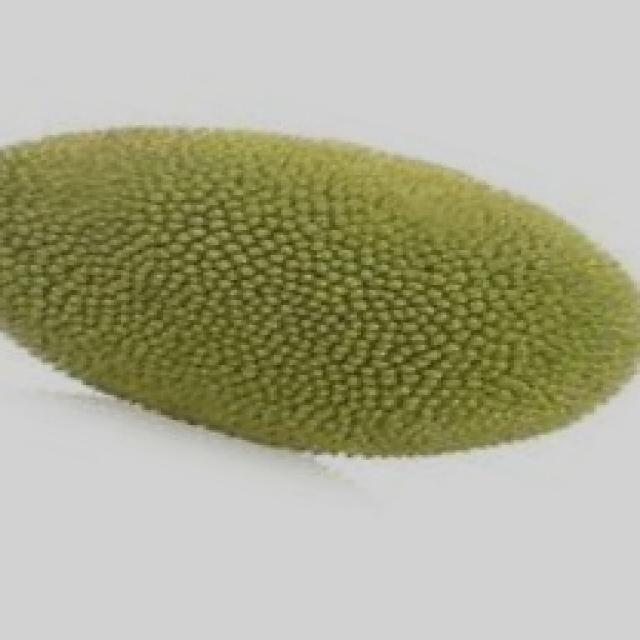Fruit: (0, 100, 397, 465), (255, 112, 640, 482)
